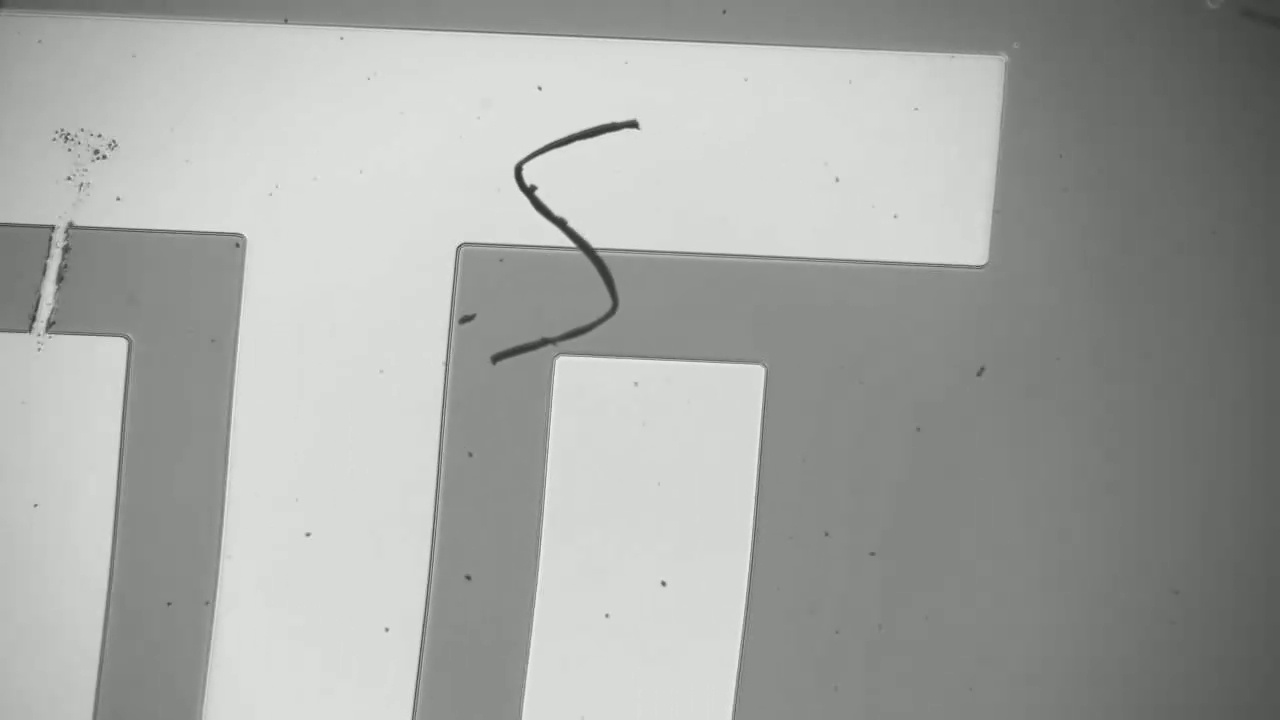Short_circuit: (16, 199, 89, 361)
